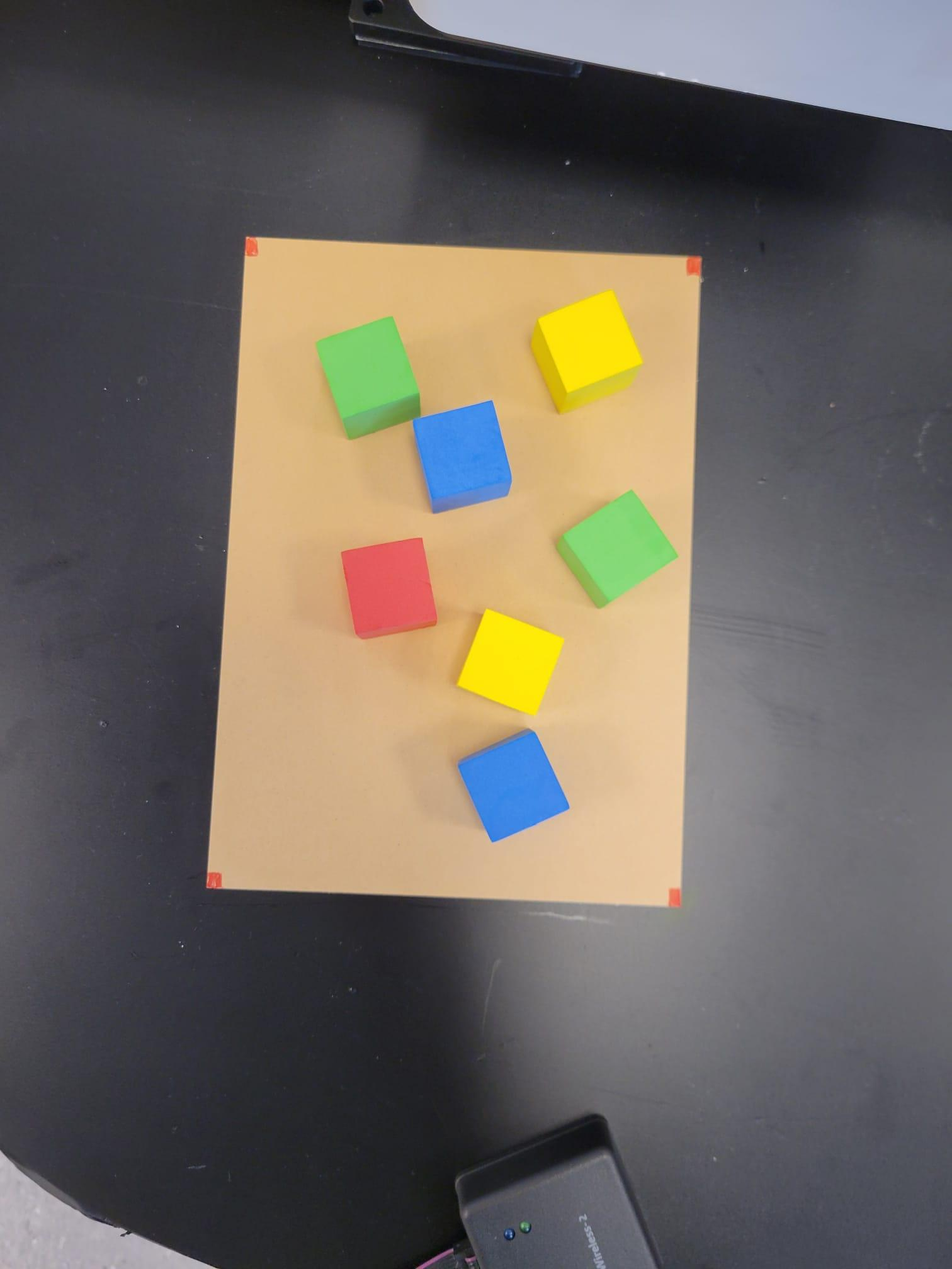cube: (557, 486, 675, 607), (460, 722, 568, 842), (315, 316, 420, 436), (540, 290, 642, 411), (417, 401, 518, 521), (456, 612, 564, 716), (345, 535, 441, 642)
